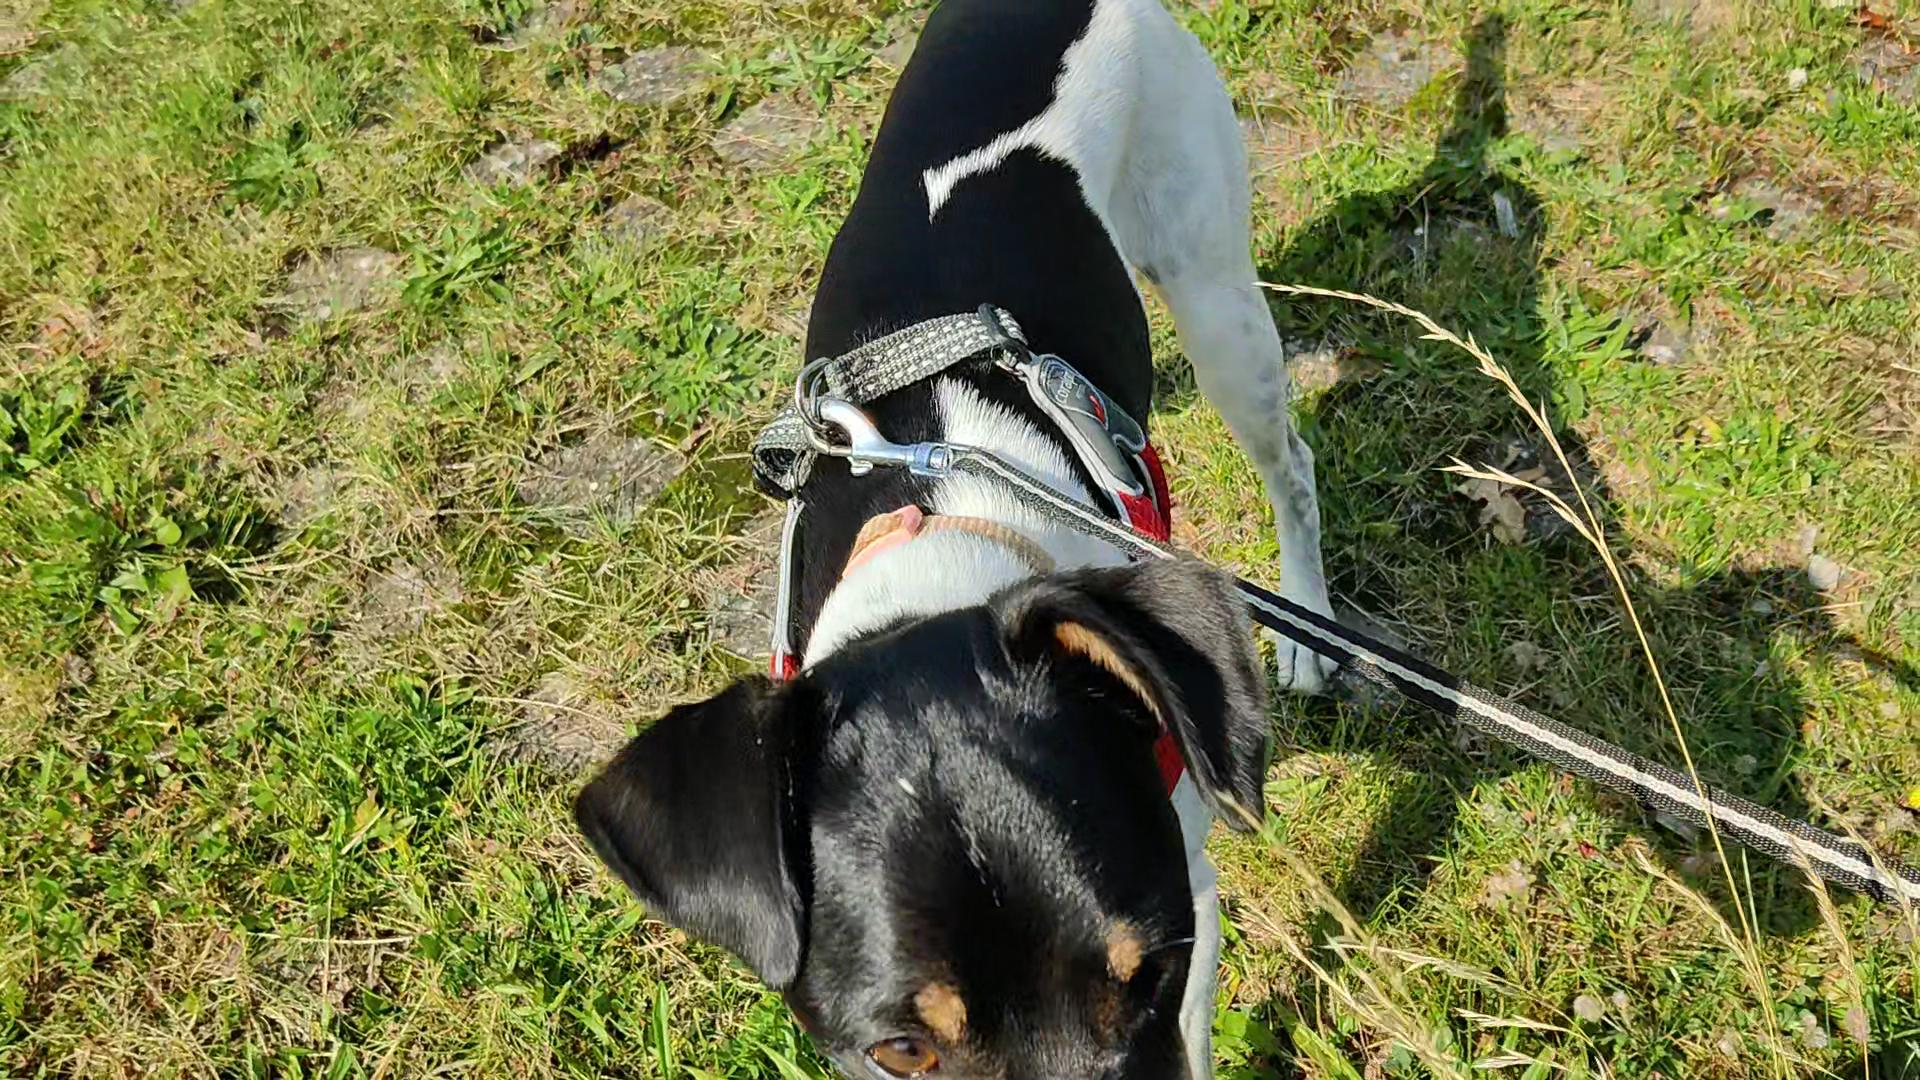Dog: (549, 0, 1375, 1080)
